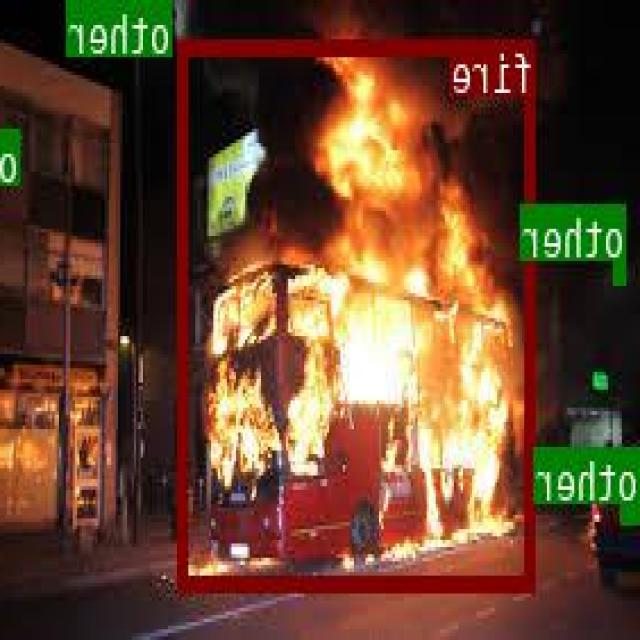fire: (180, 39, 537, 587)
other: (137, 0, 174, 36), (8, 127, 22, 160), (622, 504, 640, 522), (616, 260, 629, 282)
